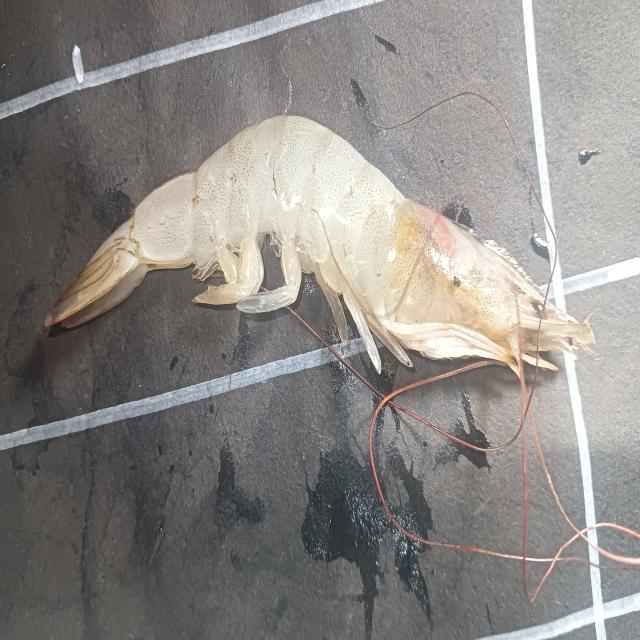shrimp: (45, 115, 594, 374)
